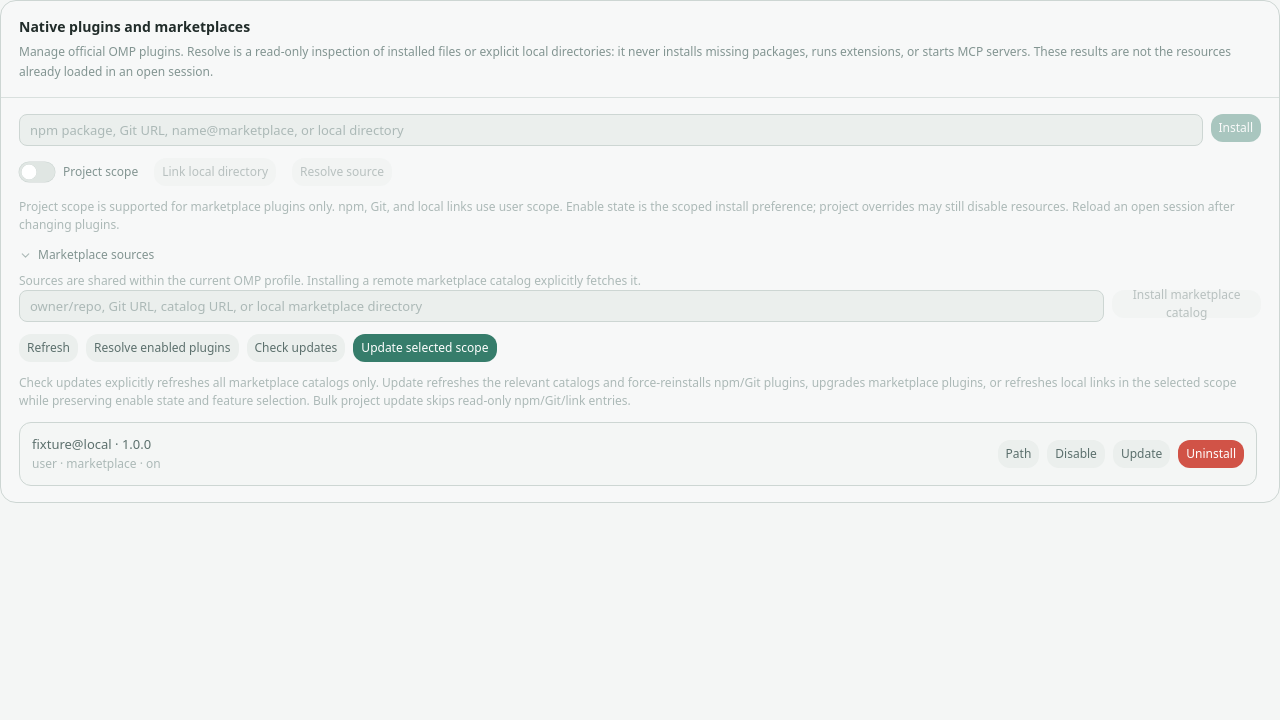
it: native package management › does not offer bulk mutation of an empty selected scope
The width and height of the screenshot is (1280, 720).
expect the button "Disable" is shown: met, box [1047, 440, 1105, 468]
expect the button "Update selected scope" is enabled: met, box [353, 334, 497, 362]
Click the switch named "Project scope": click(37, 172) [19, 162, 55, 182]
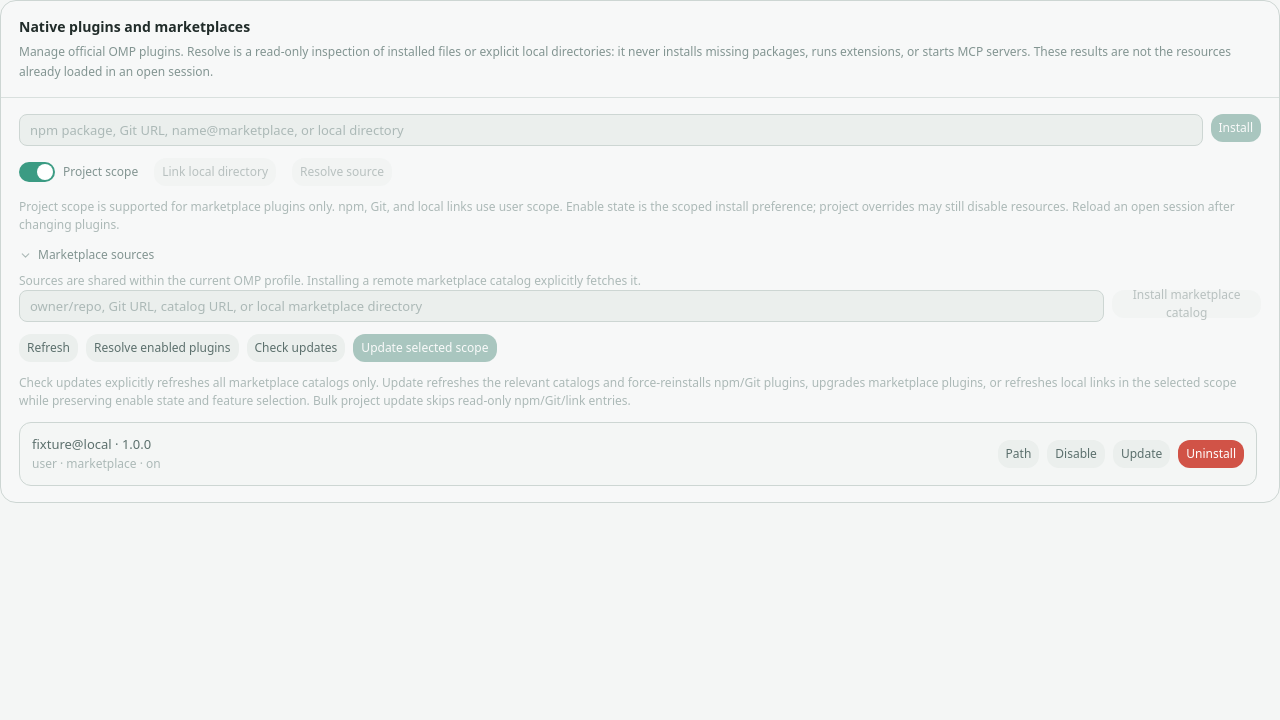
expect the button "Update selected scope" is disabled: met, box [353, 334, 497, 362]
Click the switch named "Project scope": click(37, 172) [19, 162, 55, 182]
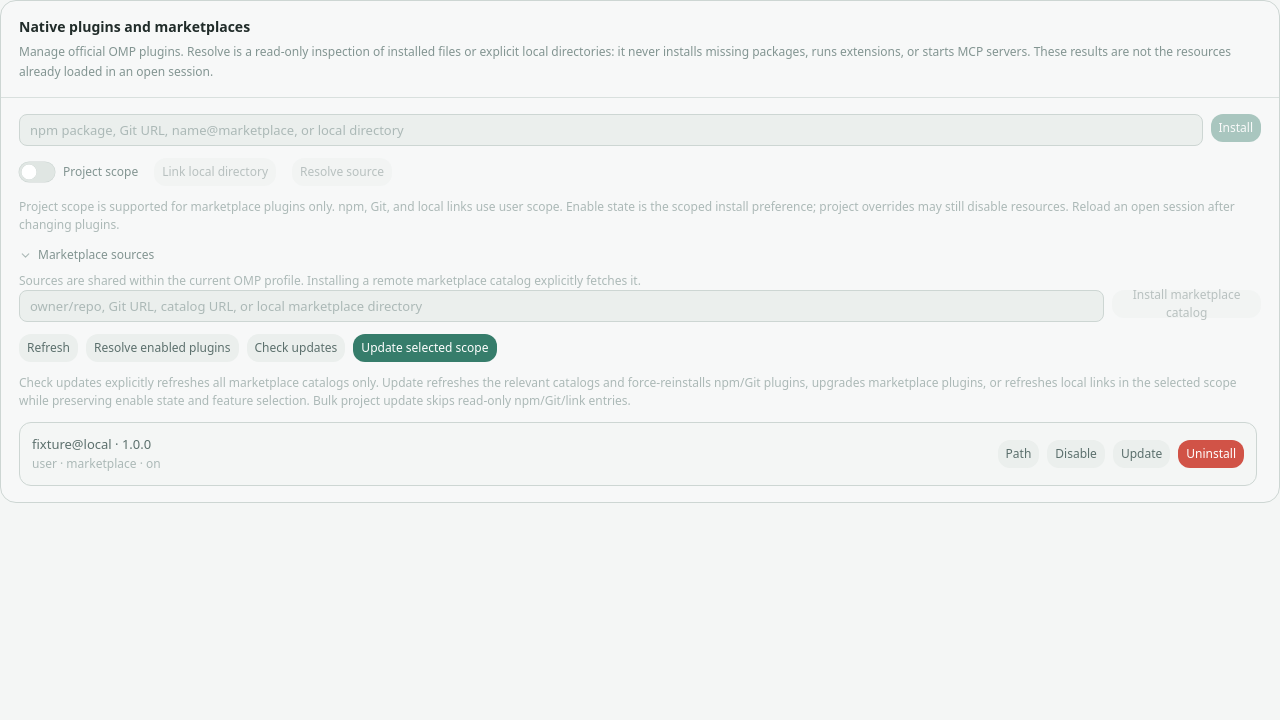
expect the button "Update selected scope" is enabled: met, box [353, 334, 497, 362]
